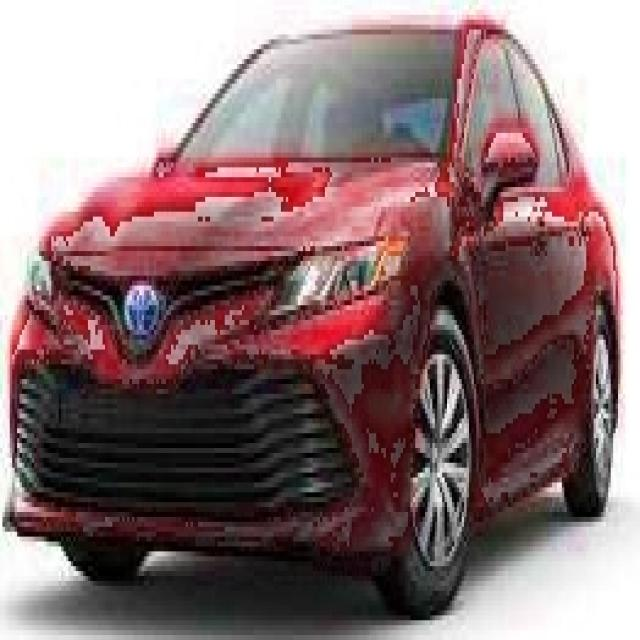maroon: (11, 22, 624, 544)
